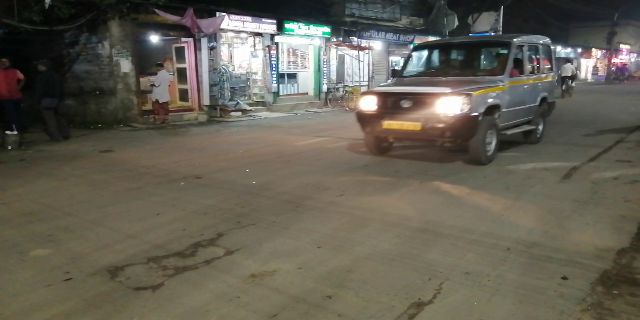Car: (356, 33, 559, 164)
